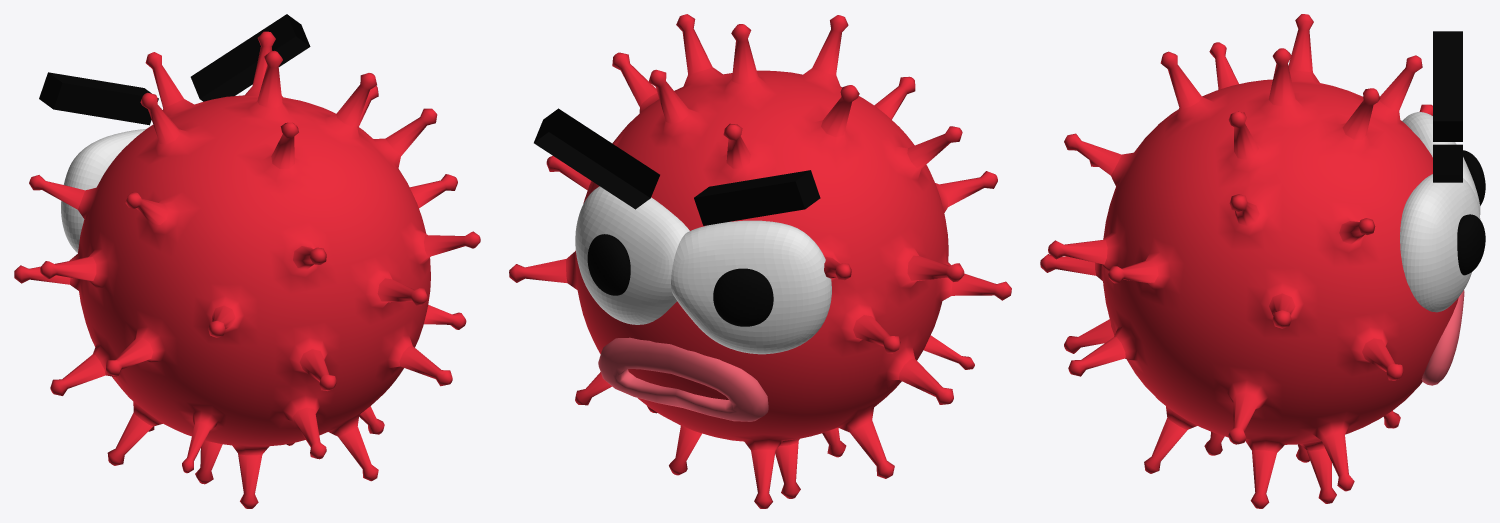
File: Virus Final Asset.fbx
3 renders of one model, left to right at view 1: azimuth 30°, elevation 25°; view 2: azimuth 150°, elevation 25°; view 3: azimuth 270°, elevation 25°, orthographic. The views are drawn at different scales.
Visible parts, largest first — view 1: Cube.001; view 2: Cube.001; view 3: Cube.001.
Part boxes in pixels (box(x1,y1,x2,y2)): Cube.001: box(14, 14, 480, 508); Cube.001: box(509, 14, 1011, 508); Cube.001: box(1040, 14, 1485, 508).
Size of the model in its own units: 226 by 227 by 207.
